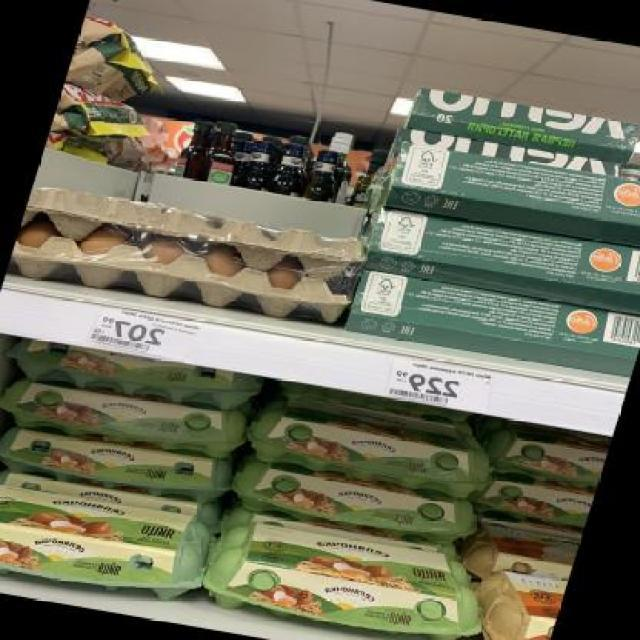Egg: (197, 513, 499, 639), (0, 471, 224, 610), (236, 392, 507, 503), (219, 456, 489, 553), (0, 372, 255, 464), (0, 415, 240, 511), (0, 337, 264, 417), (474, 419, 611, 491), (455, 519, 581, 592), (460, 567, 568, 640), (471, 473, 595, 533), (298, 117, 371, 206), (197, 119, 250, 189), (235, 130, 287, 198), (267, 130, 316, 200), (171, 112, 221, 180)
